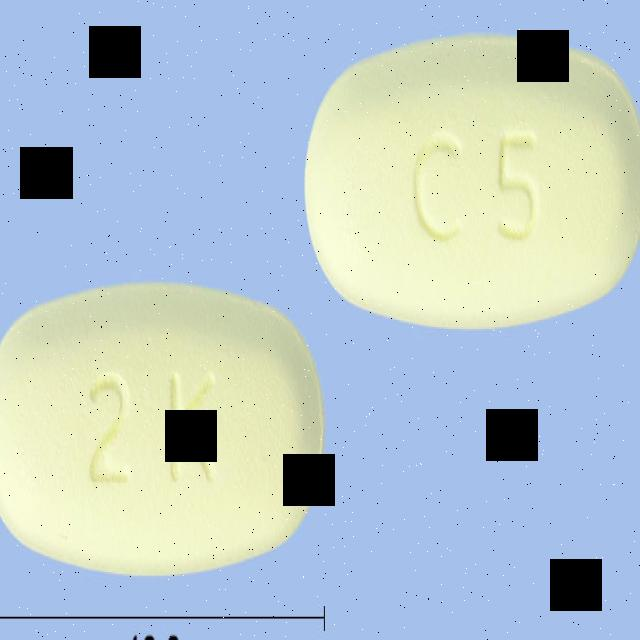Clithocin - 500mg: (299, 30, 640, 328), (0, 279, 324, 579)
